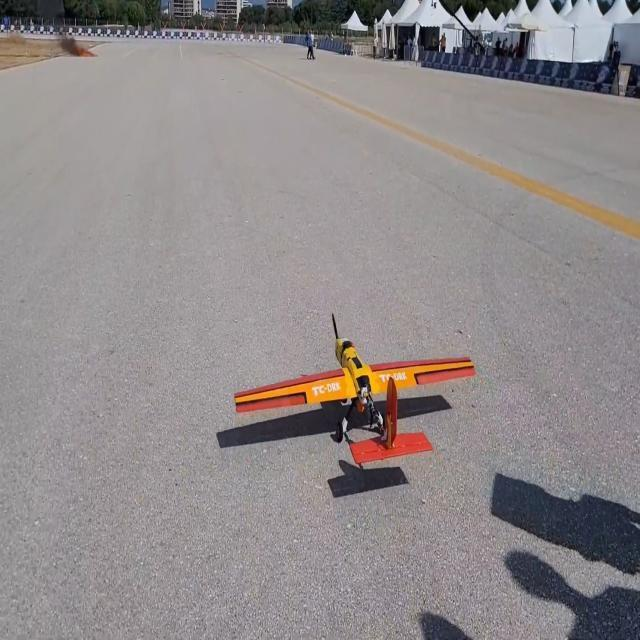UAV: (236, 326, 459, 497)
